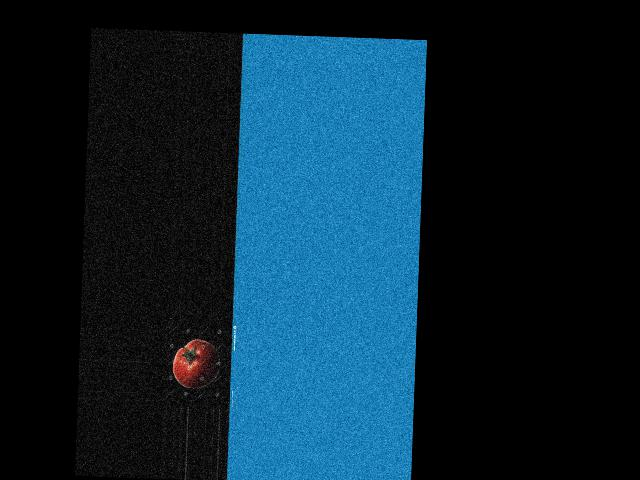tomato: (172, 338, 221, 390)
